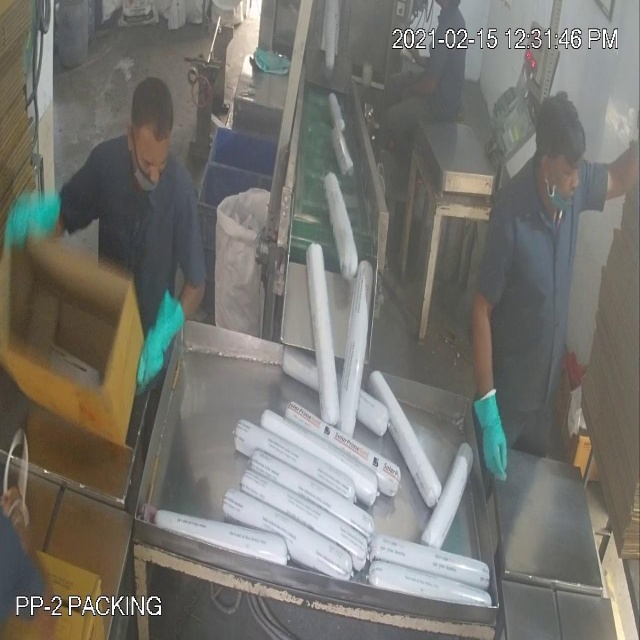Guantes: (463, 354, 522, 493), (120, 266, 185, 388), (6, 176, 73, 261)
